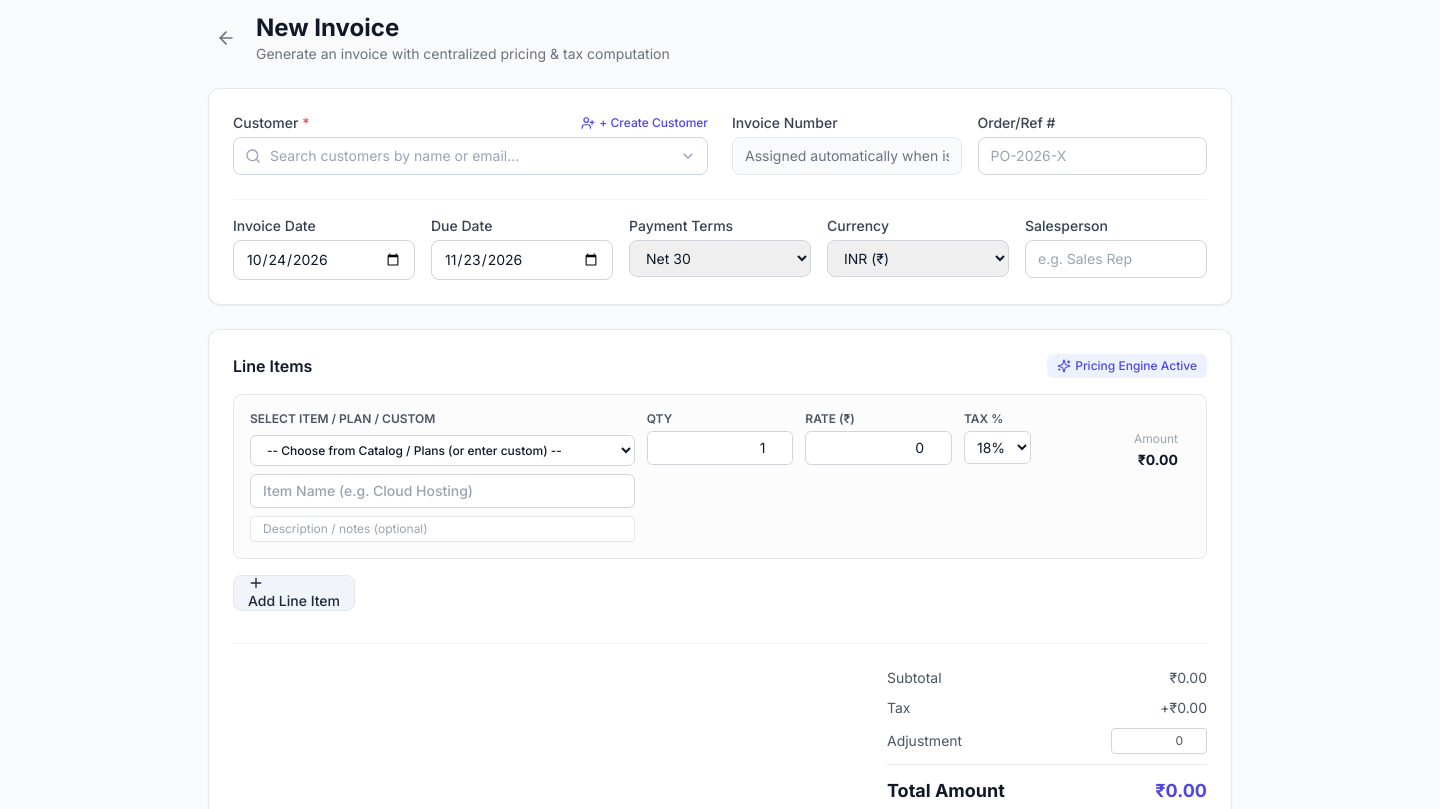
Test case: <InvoiceFormPage /> line item selection switching › ignores a late pricing response for A after switching to B
Select "Plan: Plan pA (tiered • ₹100.00)" in the dropdown below "Select Item / Plan / Custom" at (442, 450), box [250, 435, 635, 466]
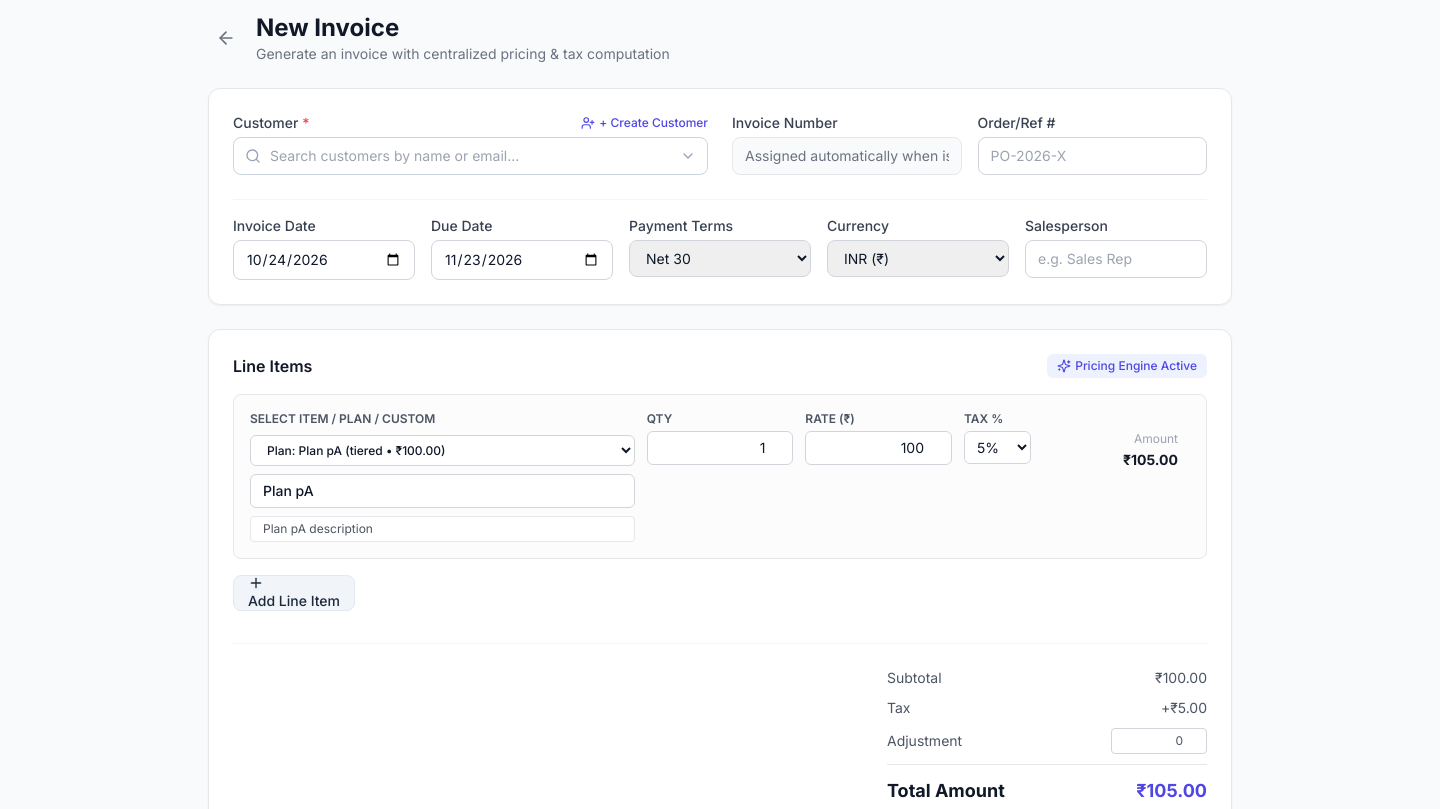
Select "Plan: Plan pB (tiered • ₹200.00)" in the dropdown below "Select Item / Plan / Custom" at (442, 450), box [250, 435, 635, 466]
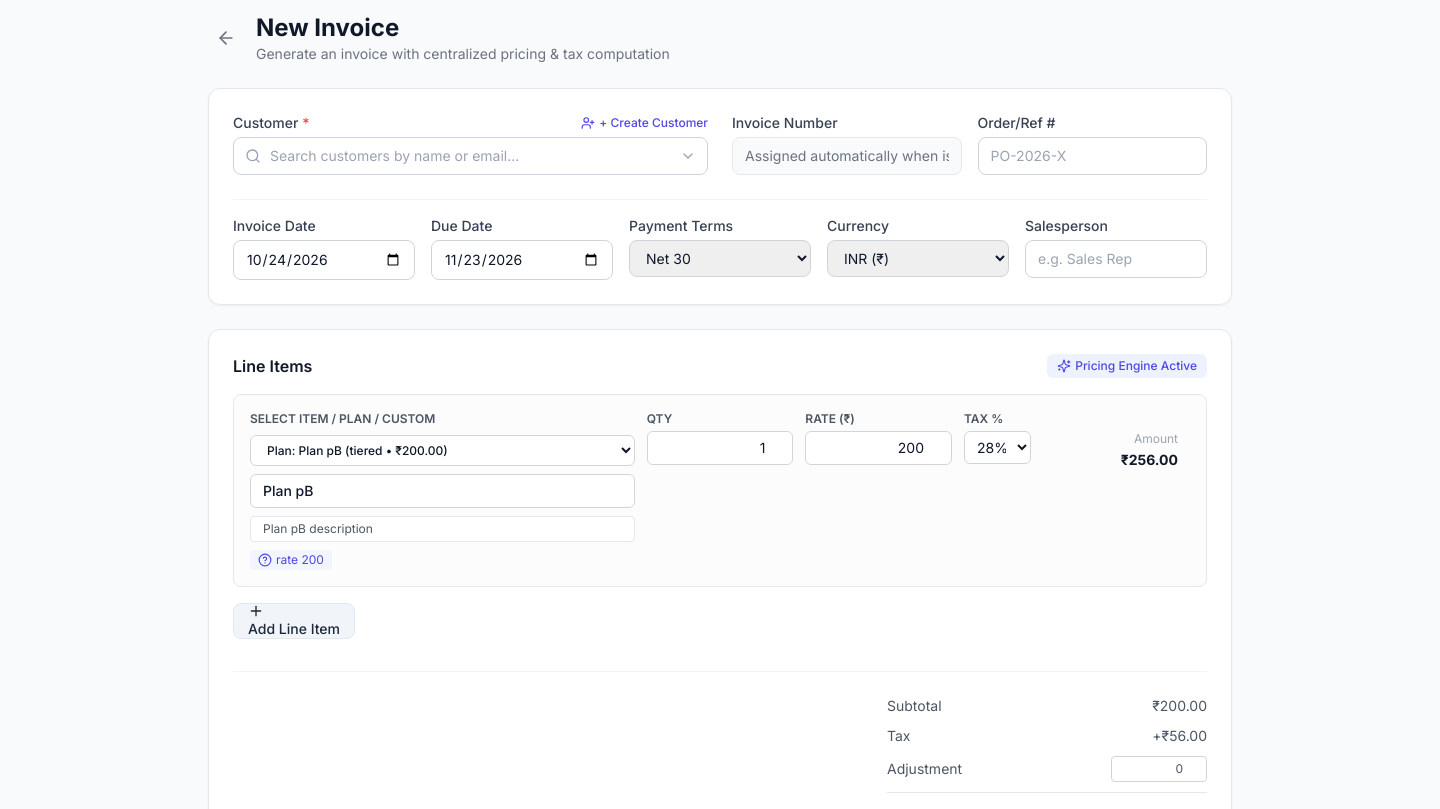
Expected: the number field below "Rate (" holds "200", [805, 431, 952, 465]
Expected: the 2nd field with placeholder "Item Name (e.g. Cloud Hosting)" holds "Plan pB", [250, 474, 635, 508]
